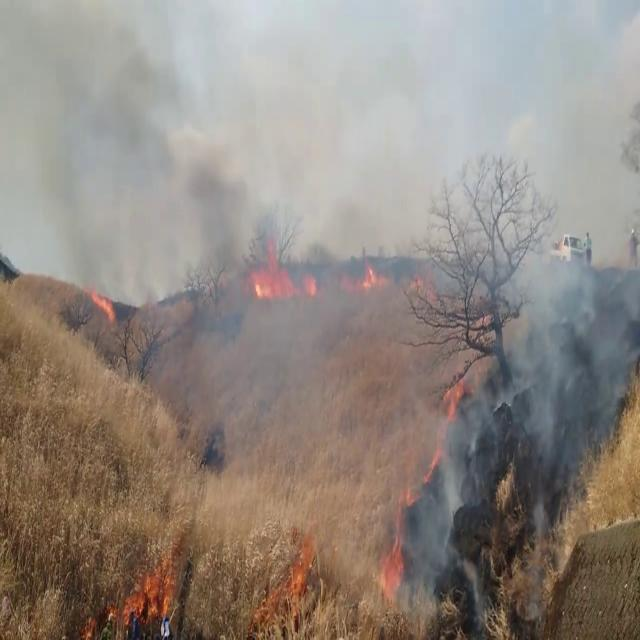Fire: (116, 533, 195, 636), (349, 542, 424, 636), (246, 252, 324, 308), (88, 281, 116, 325), (356, 258, 386, 298)
Smoke: (362, 38, 640, 630), (19, 0, 350, 367)
